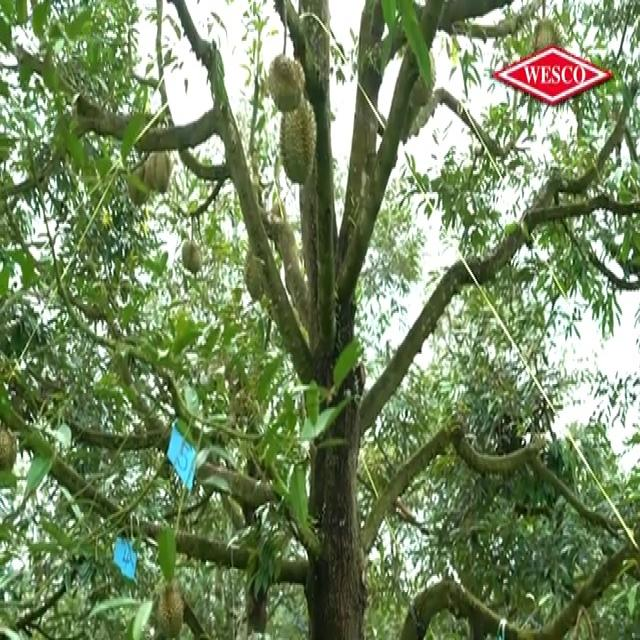durian: (279, 94, 319, 188), (265, 46, 309, 112), (406, 44, 442, 120), (533, 15, 564, 79), (156, 576, 187, 635), (245, 240, 269, 310), (145, 144, 173, 197), (179, 236, 206, 279), (2, 422, 18, 476)
